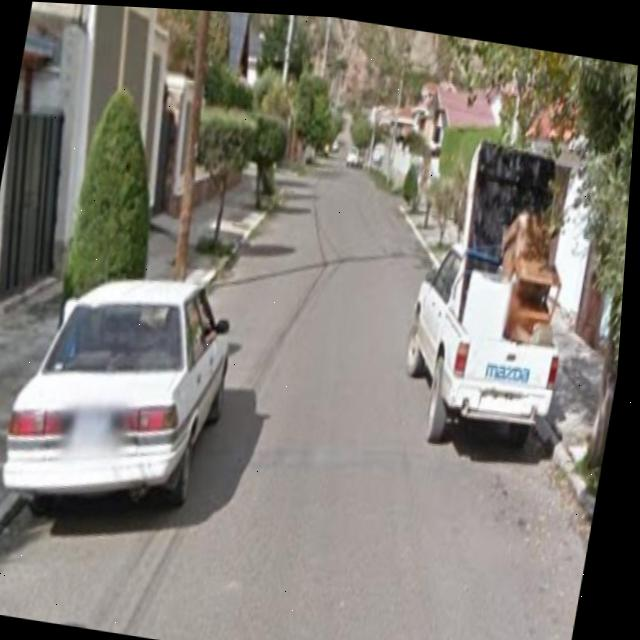vehicle: (9, 261, 242, 539), (400, 220, 590, 471)
